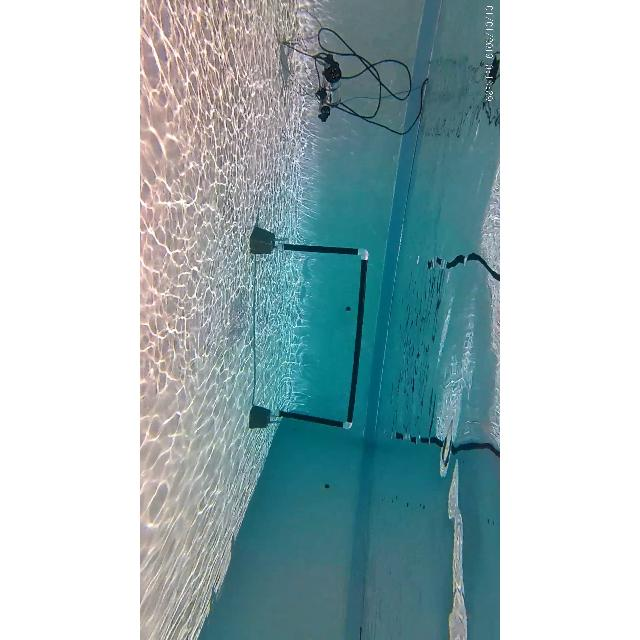prequal gate: (275, 242, 371, 430)
prequal gate leg l: (254, 226, 374, 268)
prequal gate leg r: (249, 402, 363, 436)
